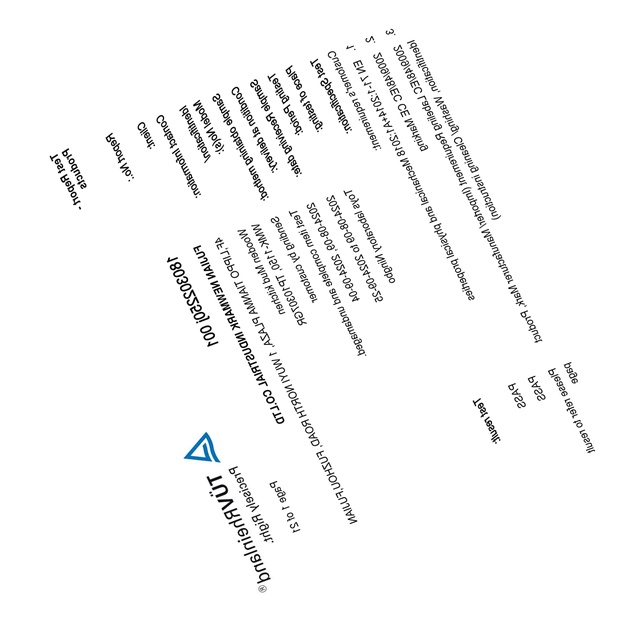tuv_rheinland: (182, 431, 277, 597)
